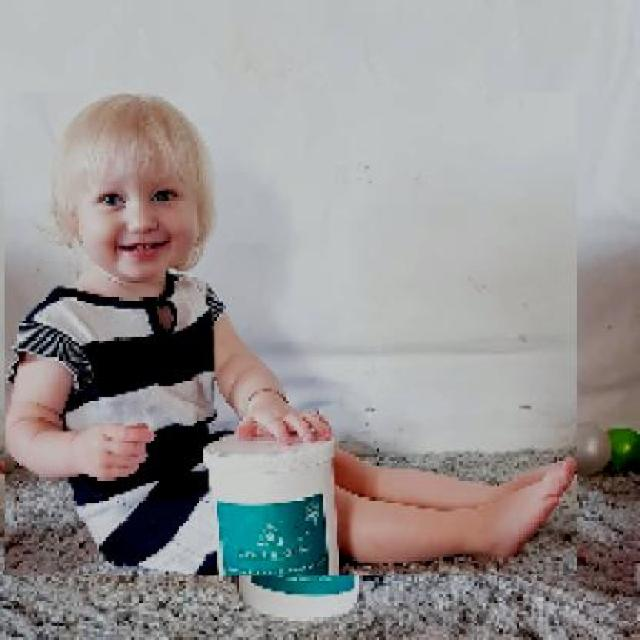child: (3, 92, 577, 577)
